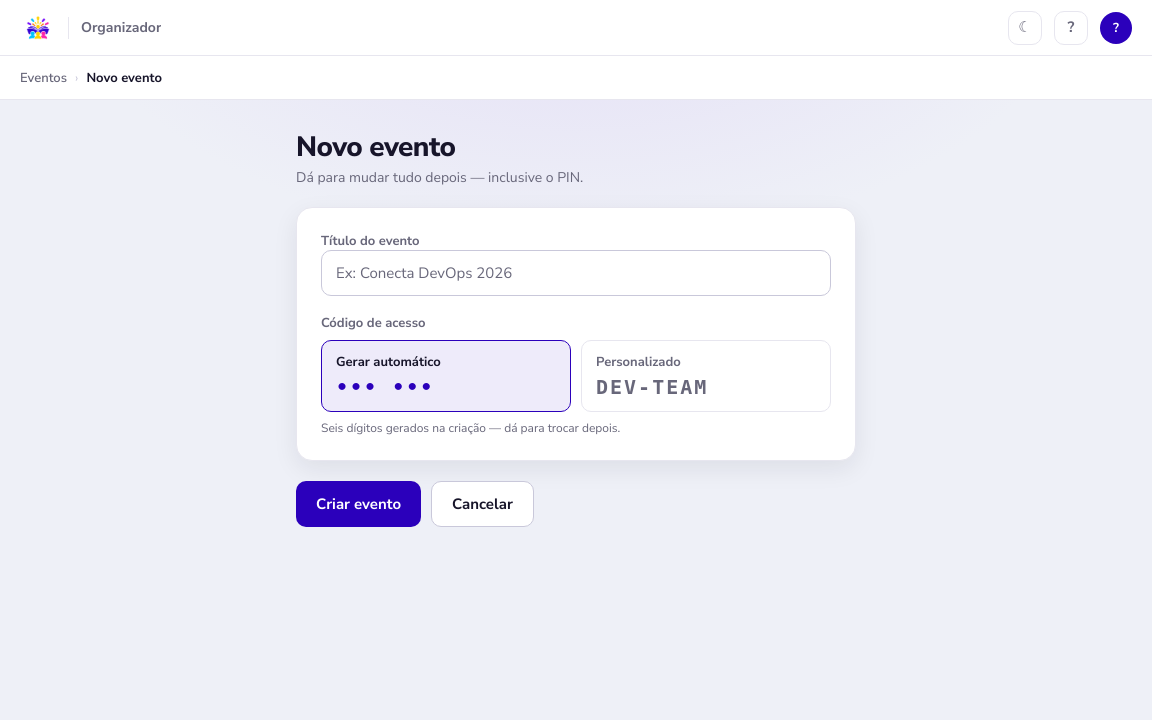
Novo evento › exige título
This screenshot has width=1152, height=720.
Click the button "Criar evento": {"x": 358, "y": 504} [296,481,421,527]
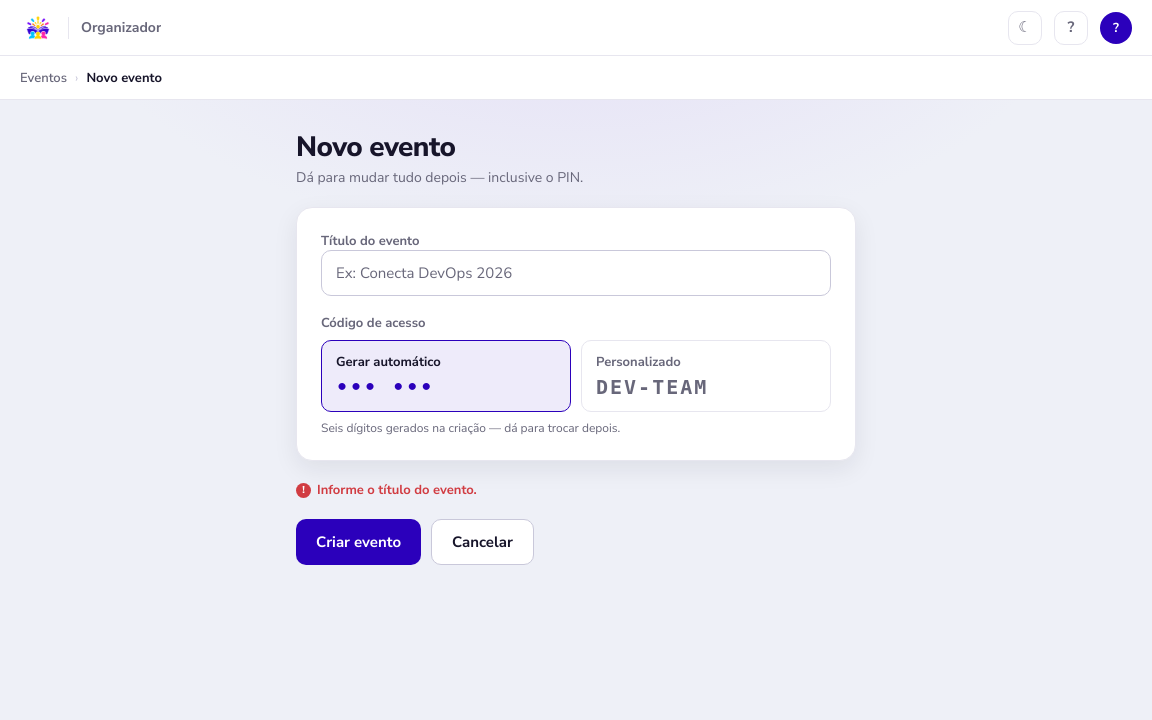
Now the text "Informe o título do evento." is shown, box [317,481,477,499]
